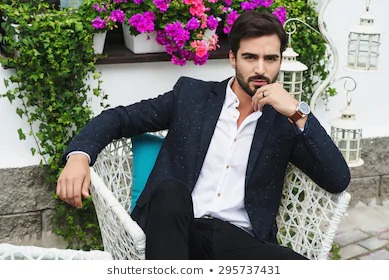F_M_suit jacket: (55, 74, 353, 259)
